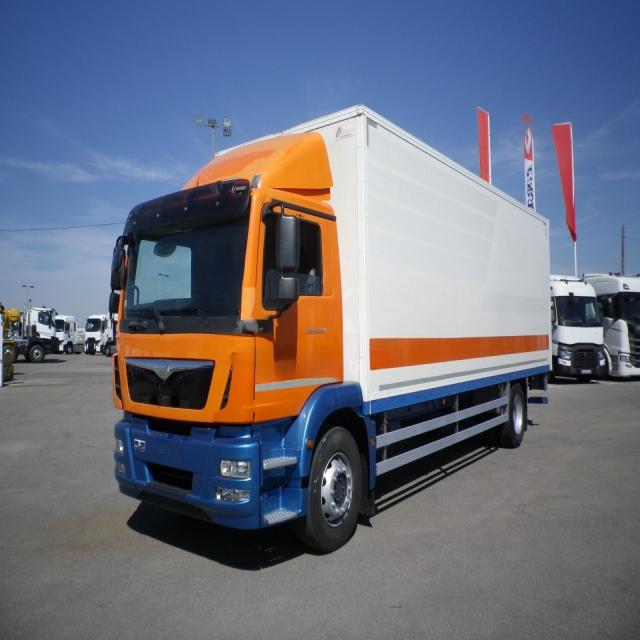truck: (109, 105, 551, 552), (4, 307, 58, 362)
